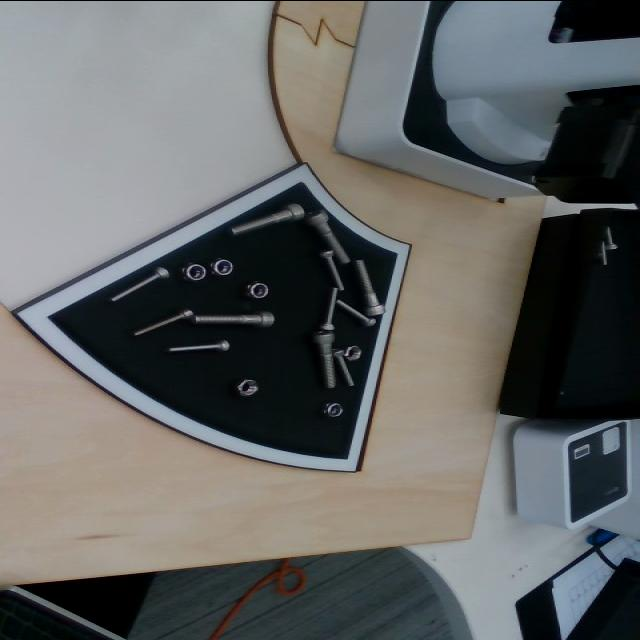big: (221, 196, 313, 241), (301, 203, 356, 272), (343, 254, 390, 322), (190, 308, 274, 330), (313, 332, 338, 389)
board: (10, 162, 412, 474)
circle: (232, 376, 262, 398), (178, 262, 208, 284), (241, 279, 271, 299), (206, 258, 234, 278), (320, 401, 345, 419), (343, 344, 362, 361)
small: (101, 259, 177, 307), (126, 300, 198, 340), (331, 295, 384, 331), (330, 346, 359, 391), (318, 282, 343, 331), (318, 246, 344, 292), (167, 339, 229, 355)
